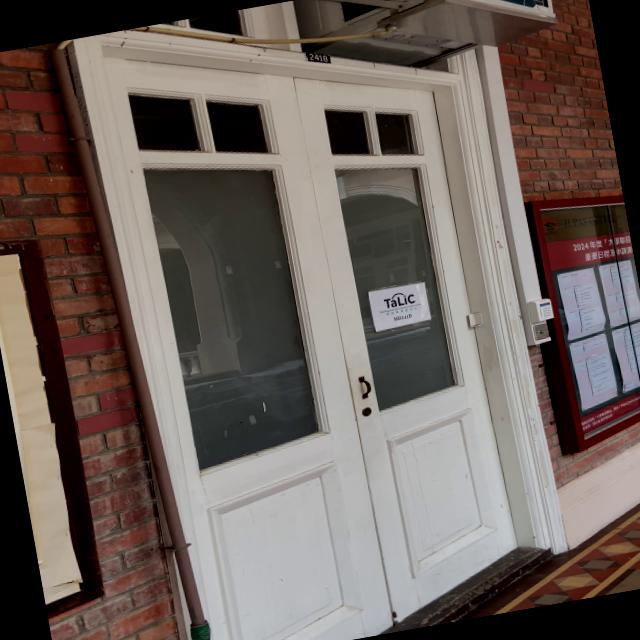room241b: (304, 48, 333, 68)
